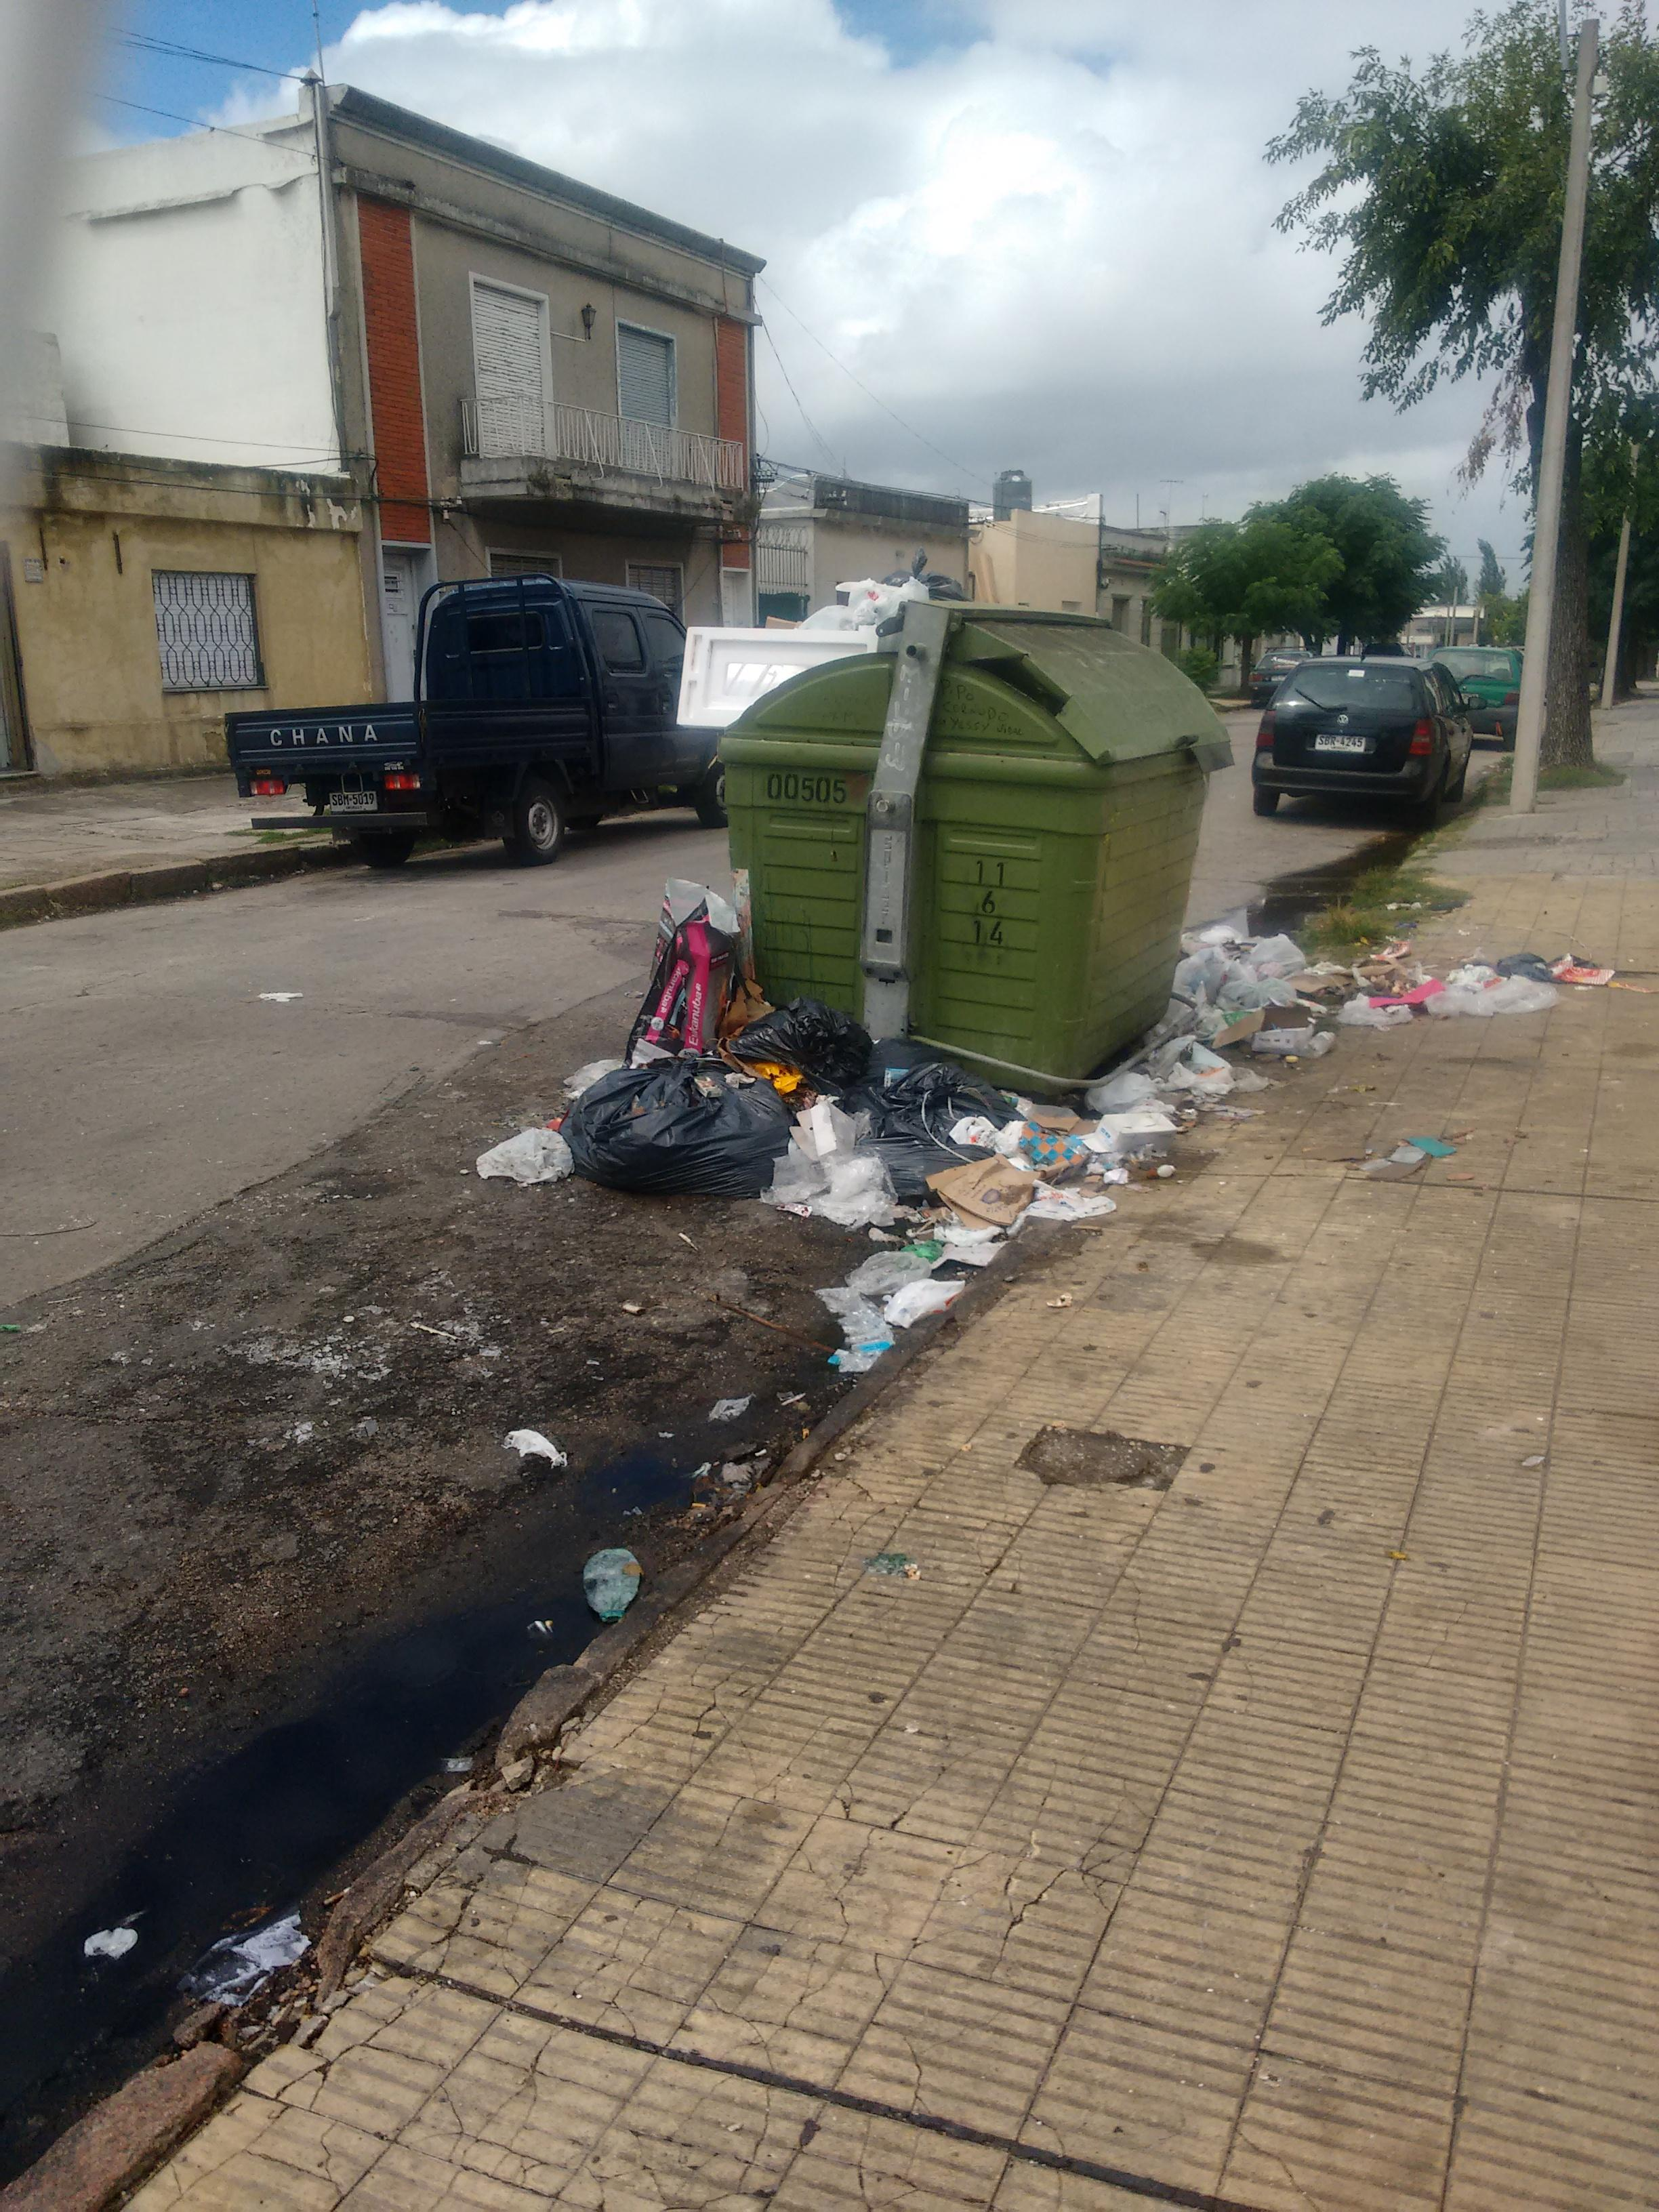Dechets: (775, 913, 1622, 1366), (453, 874, 803, 1219), (673, 554, 945, 737), (82, 1916, 350, 2073), (505, 1404, 659, 1648), (561, 1057, 802, 1197), (927, 1153, 1046, 1231), (1173, 951, 1260, 1035), (1385, 1115, 1453, 1216), (476, 1123, 579, 1183), (880, 1278, 967, 1329), (1084, 1115, 1178, 1155), (845, 1249, 931, 1292), (1251, 1028, 1314, 1059)
Trash: (721, 610, 1243, 1111)
